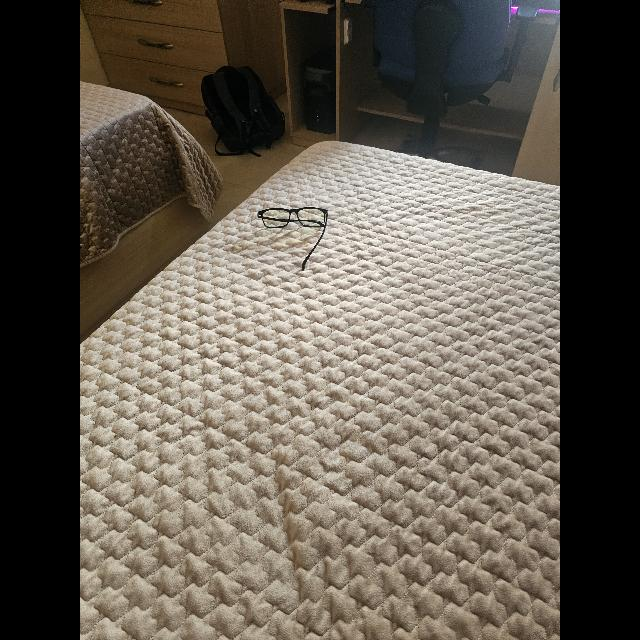glasses: (258, 208, 328, 270)
